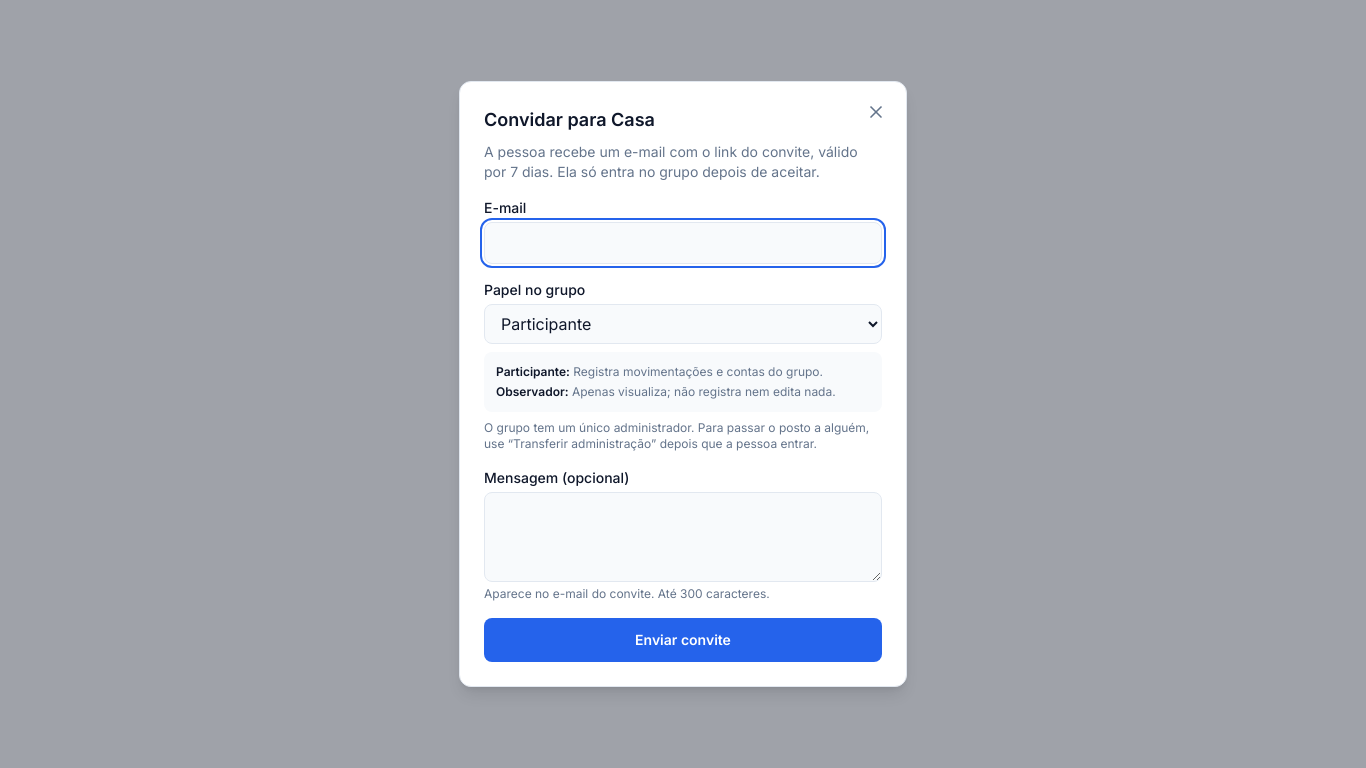
Test case: DialogoConvite › 409 JA_E_MEMBRO manda alterar o papel do membro (RN-38)
This screenshot has width=1366, height=768.
Type "ana@exemplo.com" into the field labelled "E-mail" at (683, 243), box top-left (484, 222), bottom-right (882, 264)
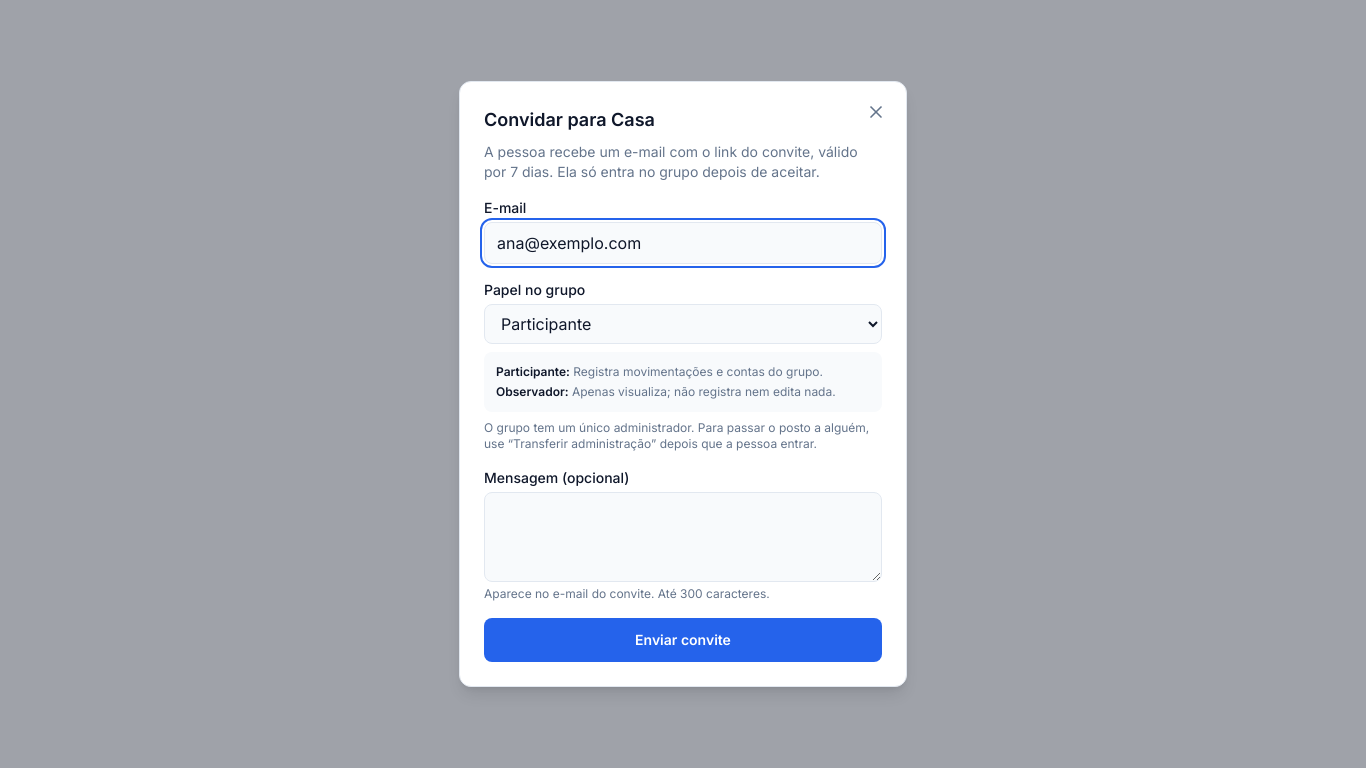
Click the button "Enviar convite" at (683, 640), box top-left (484, 618), bottom-right (882, 662)
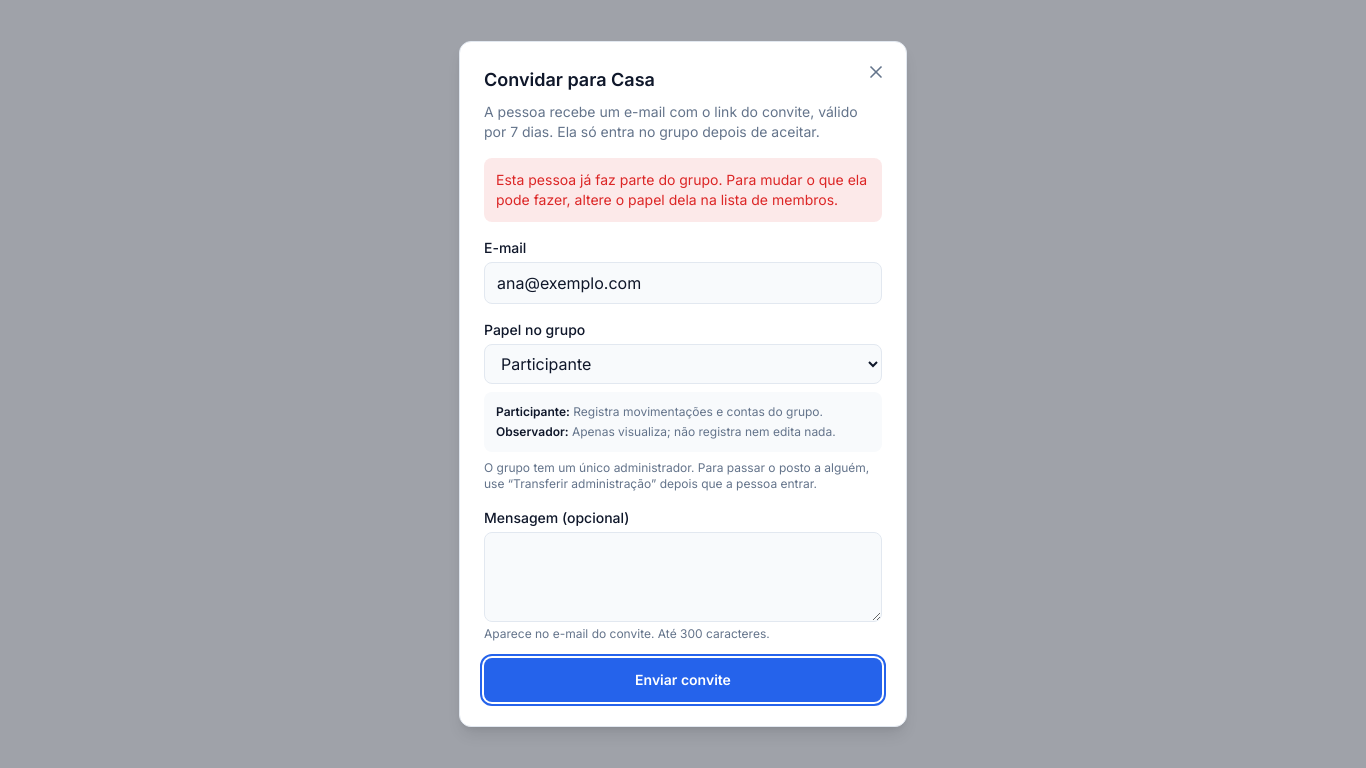
Expected: the message shows "já faz parte do grupo", top-left (496, 171), bottom-right (867, 208)
